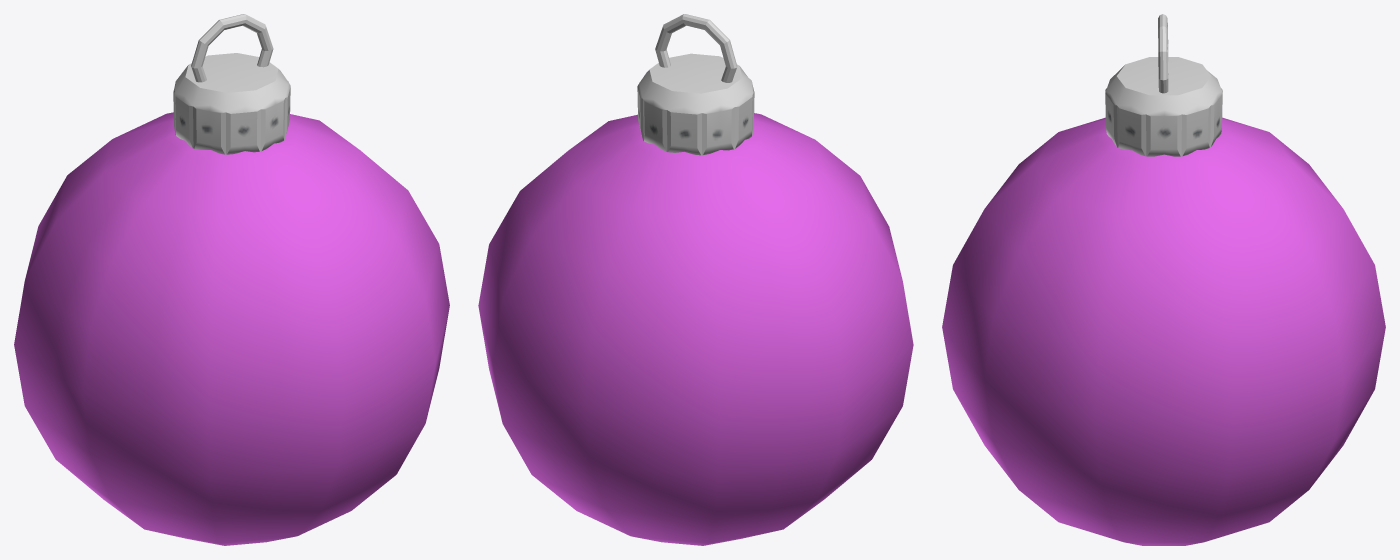
The picture shows the model from 3 angles, left to right: view 1: azimuth 30°, elevation 25°; view 2: azimuth 150°, elevation 25°; view 3: azimuth 270°, elevation 25°; orthographic projection.
Visible parts, largest first — view 1: pTorus4_kugel_pink_0; view 2: pTorus4_kugel_pink_0; view 3: pTorus4_kugel_pink_0.
Boxes of the visible parts, x1,y1,x2,y2 form: pTorus4_kugel_pink_0: (14,14,449,545); pTorus4_kugel_pink_0: (478,14,913,545); pTorus4_kugel_pink_0: (942,14,1385,545).
Size of the model in its own units: 0.2611 by 0.3469 by 0.2745.
Materials: 2 (2 with a texture image).
